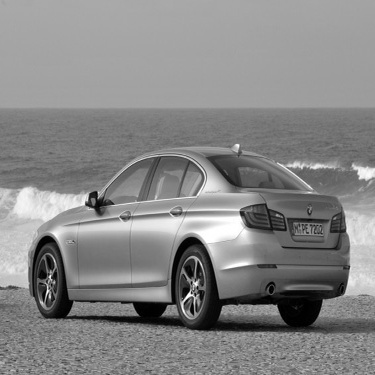car: (19, 135, 354, 331)
